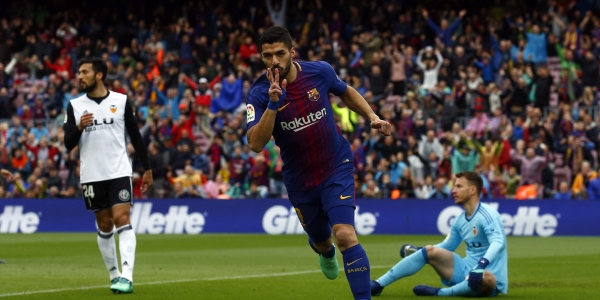soccer player: (241, 24, 389, 299), (65, 57, 148, 293), (369, 169, 511, 298)
